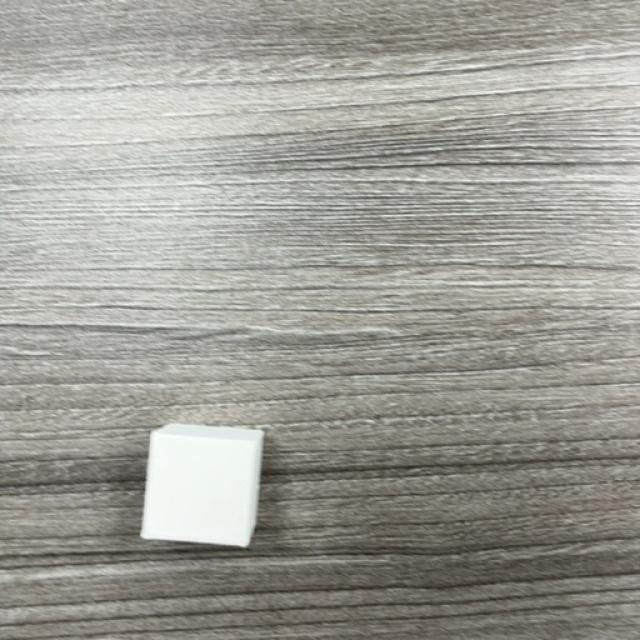Blanco: (140, 424, 265, 549)
